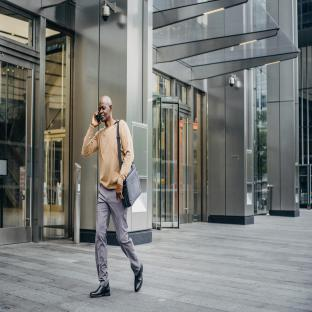Human: (82, 96, 143, 297)
